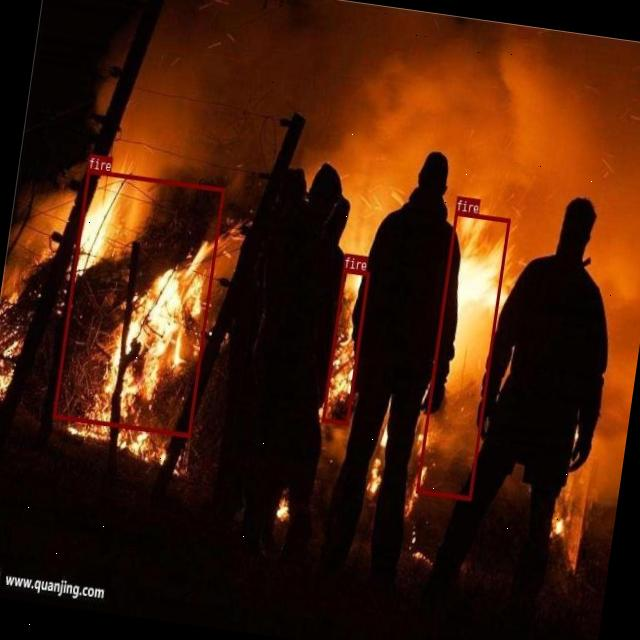fire: (52, 169, 224, 437), (416, 210, 510, 500), (322, 268, 370, 425)
